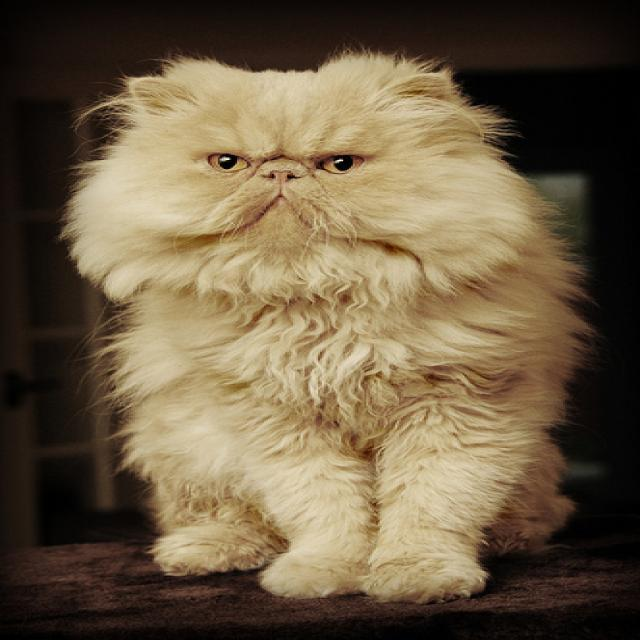Persian: (68, 40, 521, 305)
